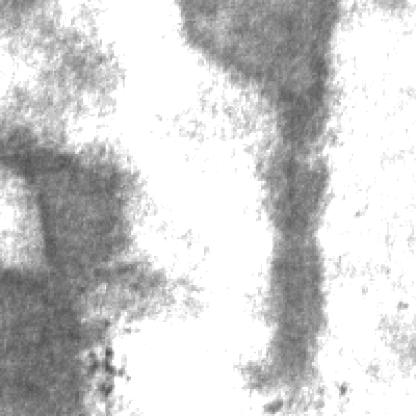patches: (0, 108, 154, 406), (243, 37, 331, 391), (176, 0, 328, 92)
